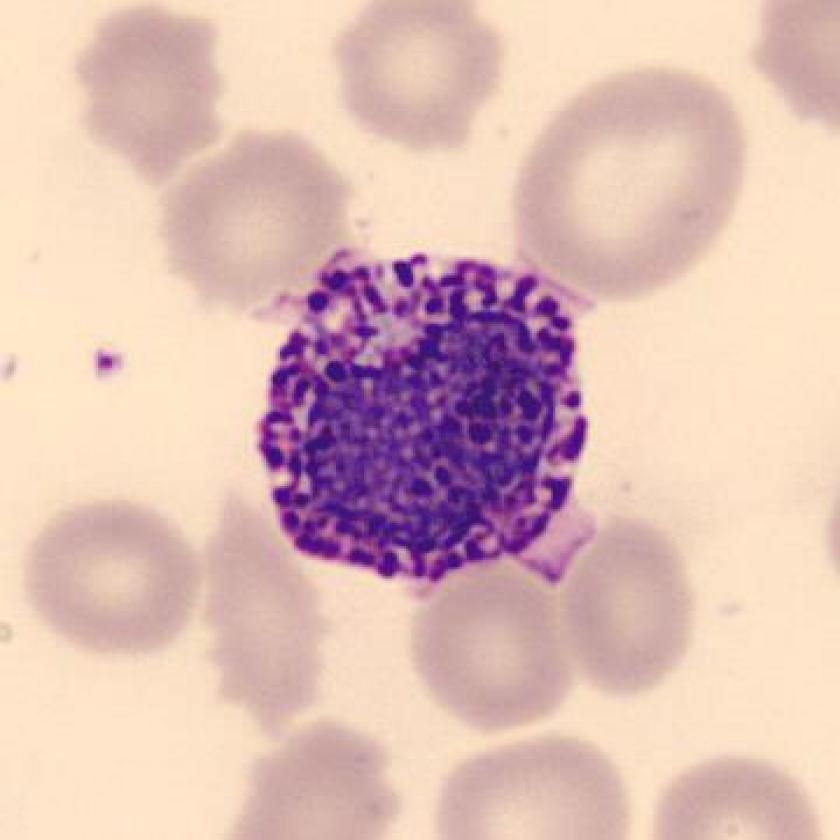basophil: (251, 244, 610, 591)
